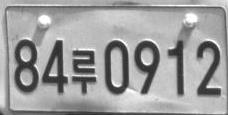0: (103, 38, 129, 95)
1: (165, 39, 194, 95)
2: (196, 40, 221, 96)
4: (41, 39, 68, 94)
8: (14, 38, 40, 92)
9: (133, 39, 161, 94)
루: (71, 49, 97, 94)
